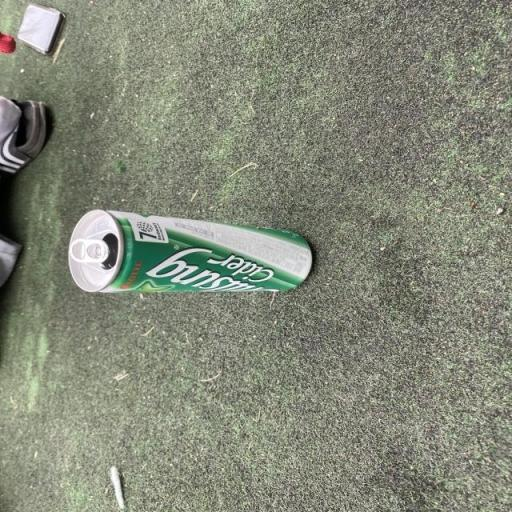metal: (38, 184, 369, 348)
